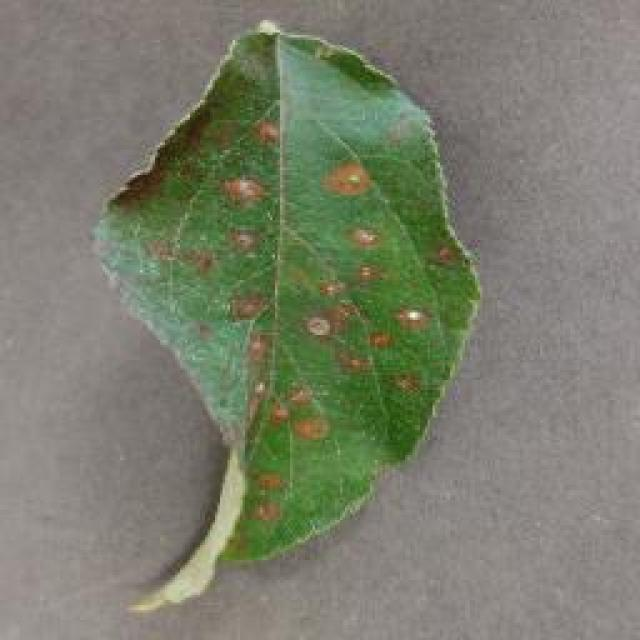apple healthy: (90, 17, 482, 615)
